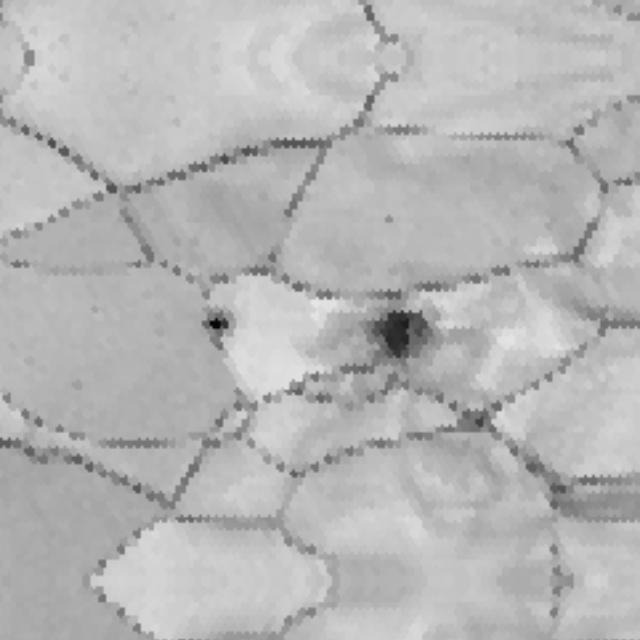good_void: (347, 292, 460, 381), (198, 303, 239, 352), (381, 207, 401, 234)
